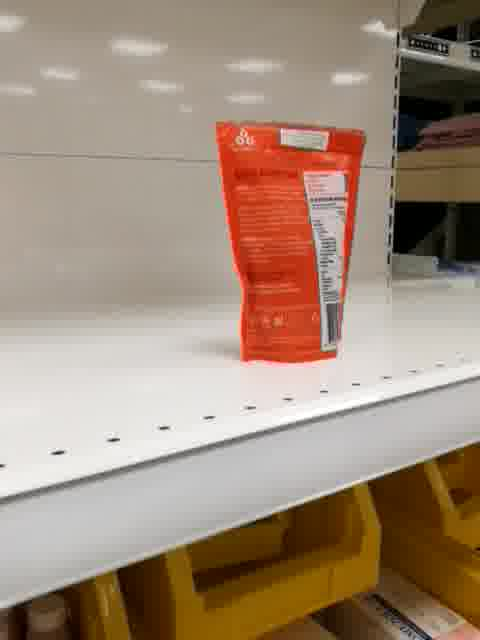whitechia: (214, 118, 369, 365)
